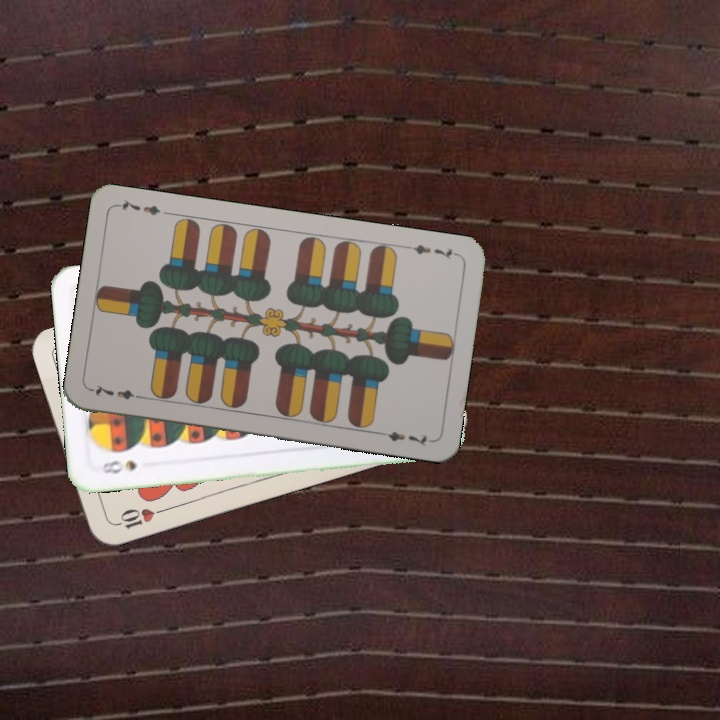E7: (88, 380, 147, 403), (402, 240, 461, 262)
H10: (110, 504, 168, 532)
S8: (95, 456, 139, 477)
